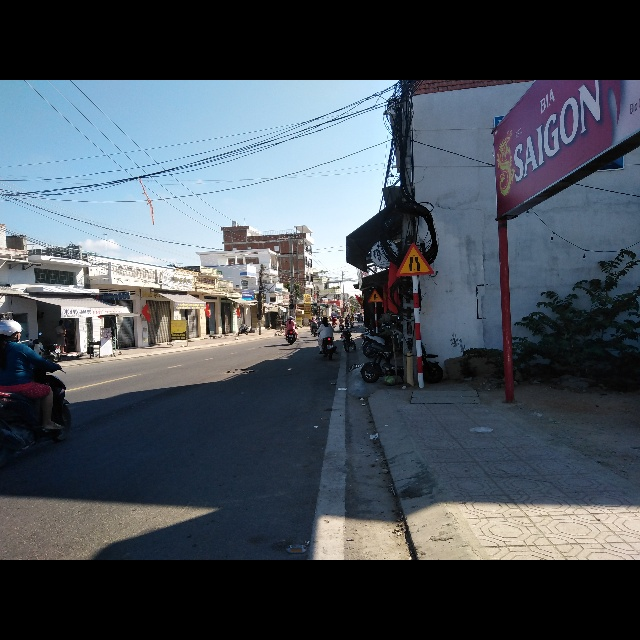Đường bị hẹp cả hai bên: (394, 244, 435, 277)
